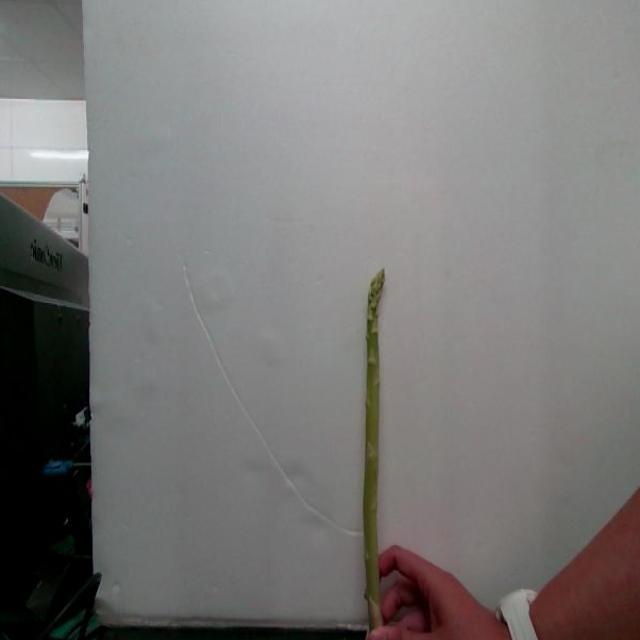aspargus: (364, 270, 387, 632)
